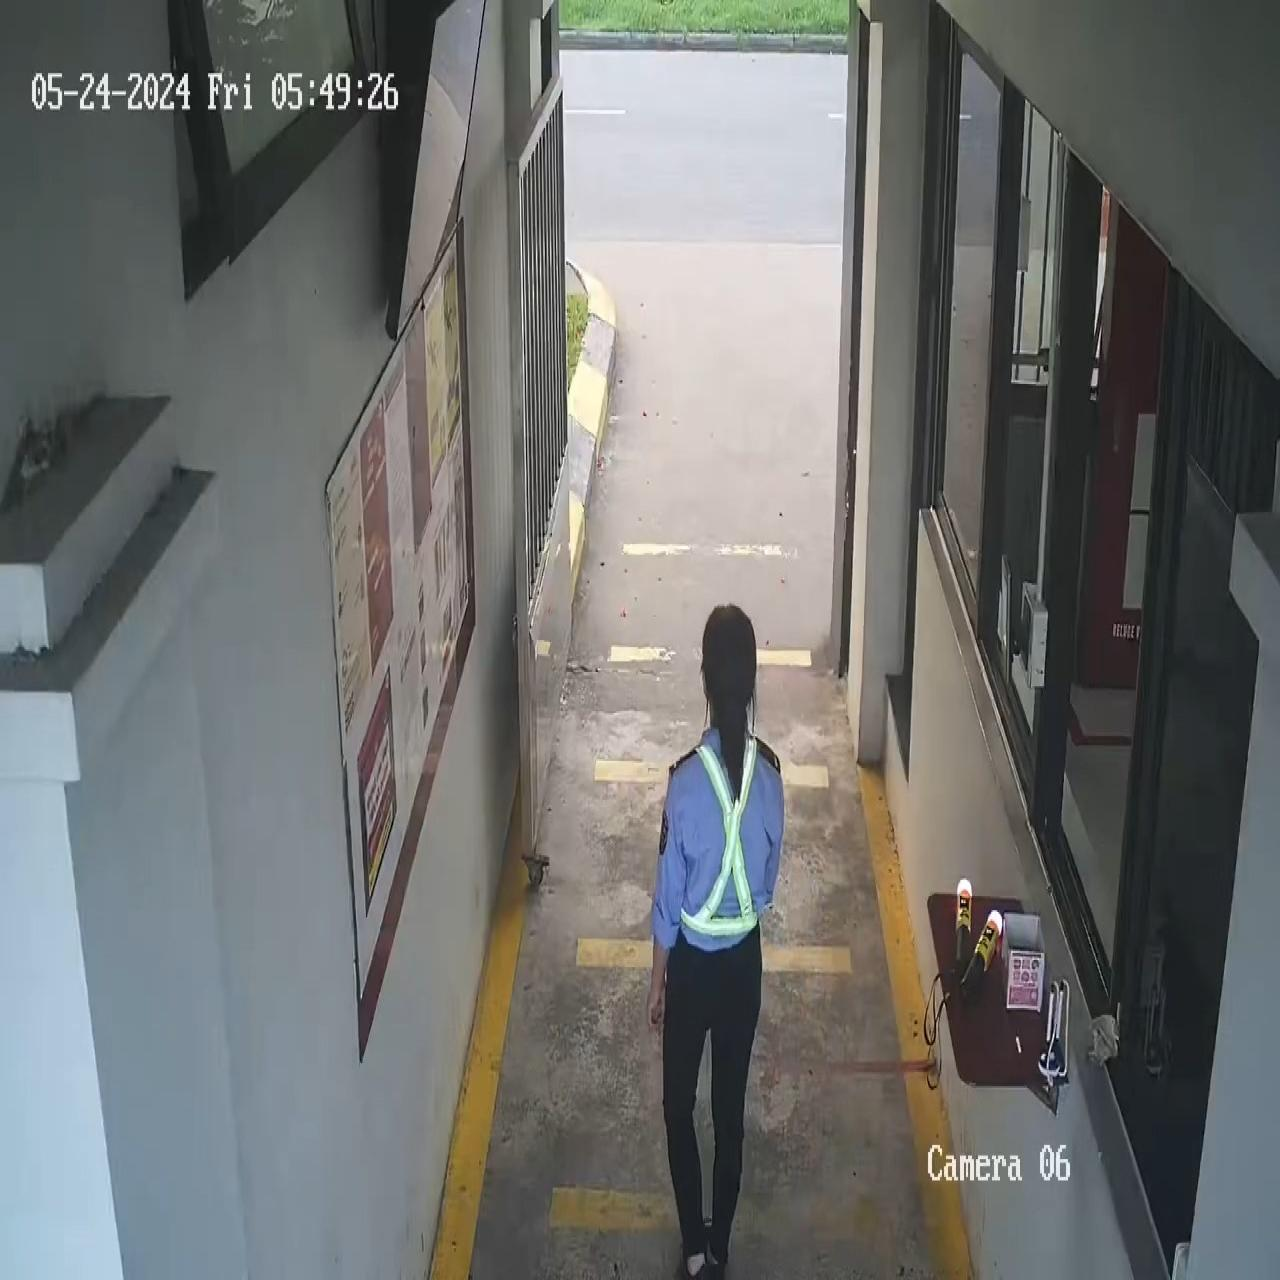breathalyzer: (967, 905, 1006, 1006), (951, 869, 973, 969)
guard: (645, 601, 785, 1276)
